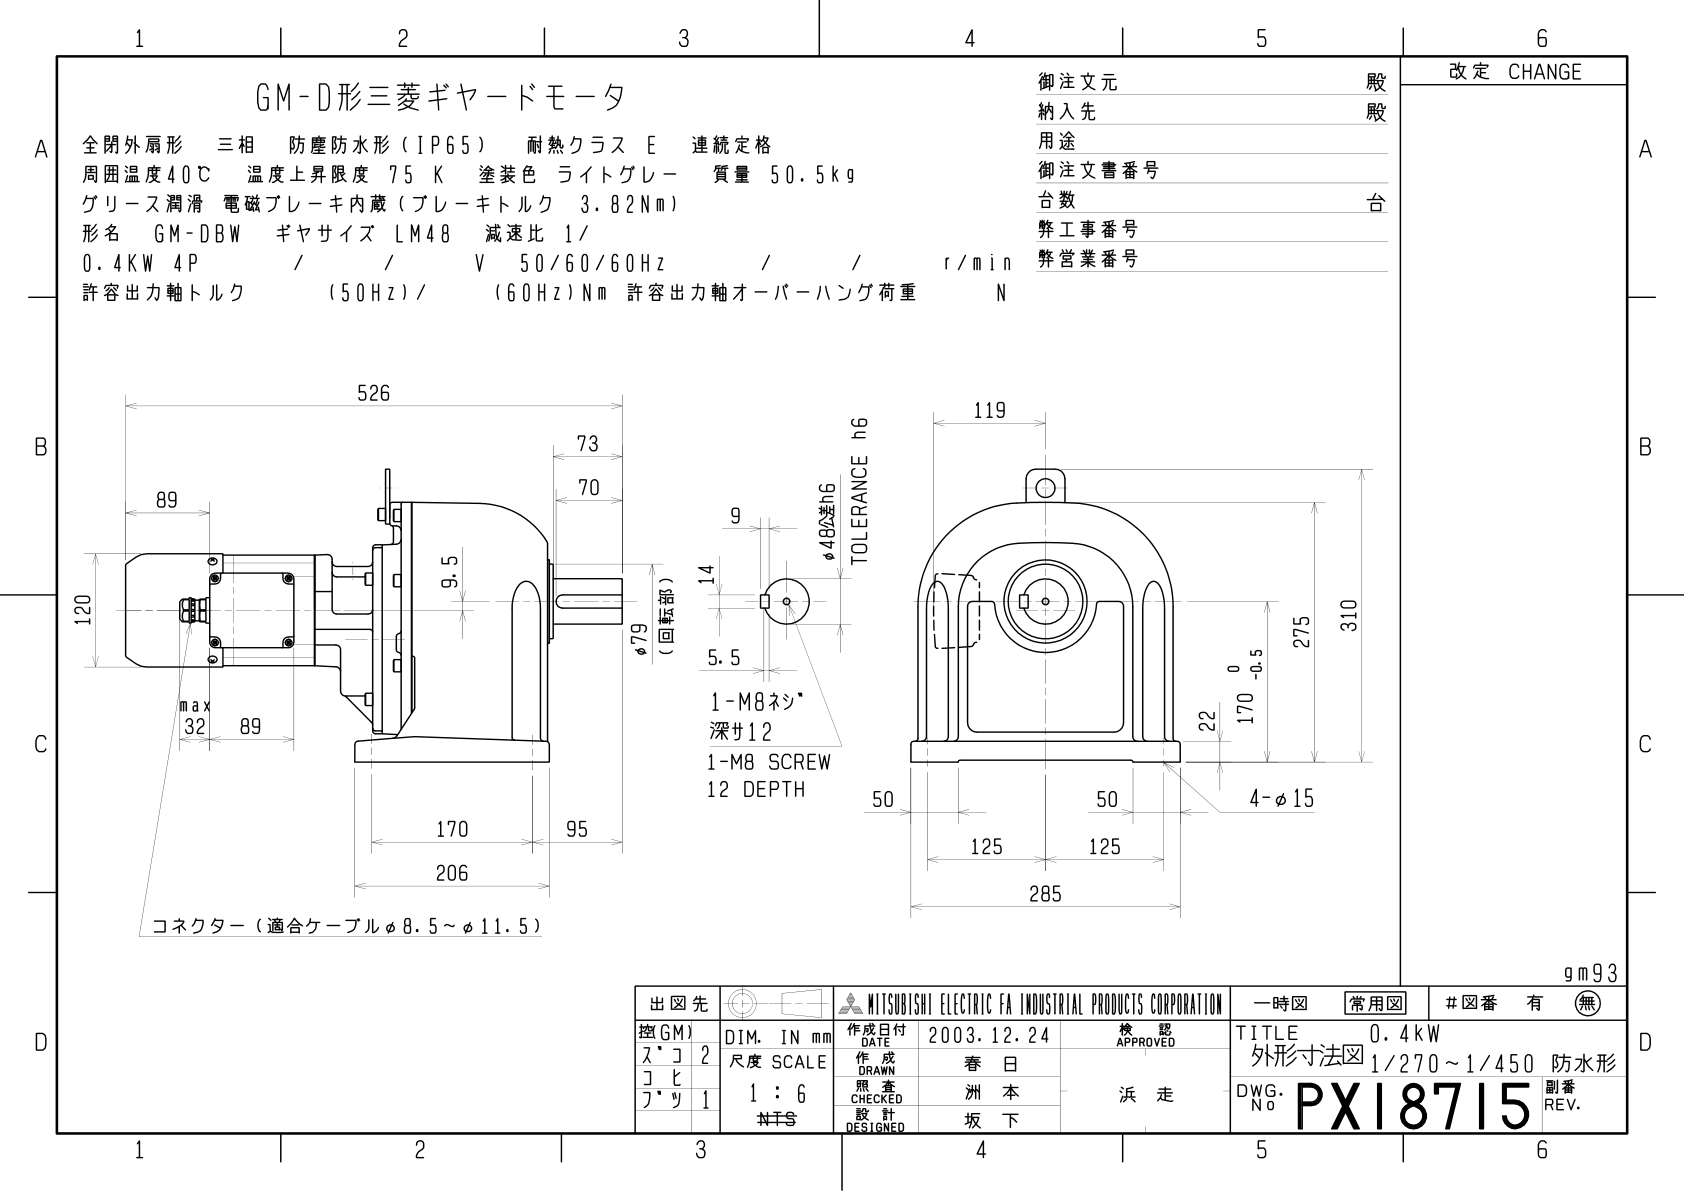GM_D_IP65_三相_脚: (64, 335, 1389, 959)
